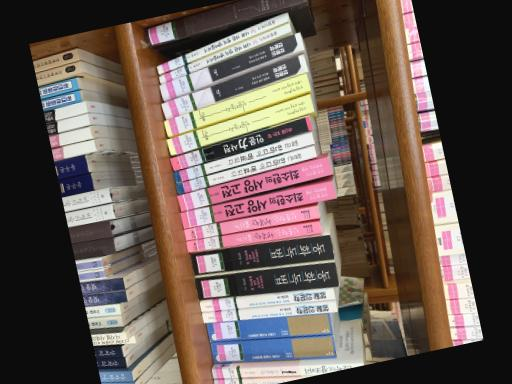book-spine: (158, 32, 304, 102), (160, 54, 308, 121), (163, 73, 310, 138), (165, 94, 314, 156), (176, 157, 331, 212), (155, 12, 289, 75), (158, 23, 291, 84), (169, 116, 312, 171), (143, 0, 307, 47), (180, 181, 336, 229), (173, 133, 314, 184), (175, 146, 316, 196), (189, 235, 334, 276), (193, 262, 338, 300), (183, 206, 319, 241), (185, 221, 322, 253), (206, 313, 333, 343), (209, 336, 336, 364), (199, 288, 335, 313), (201, 301, 337, 324), (211, 363, 363, 379), (214, 377, 309, 384)
